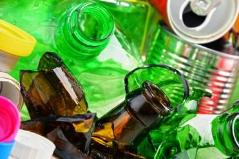glass: (19, 50, 209, 158)
